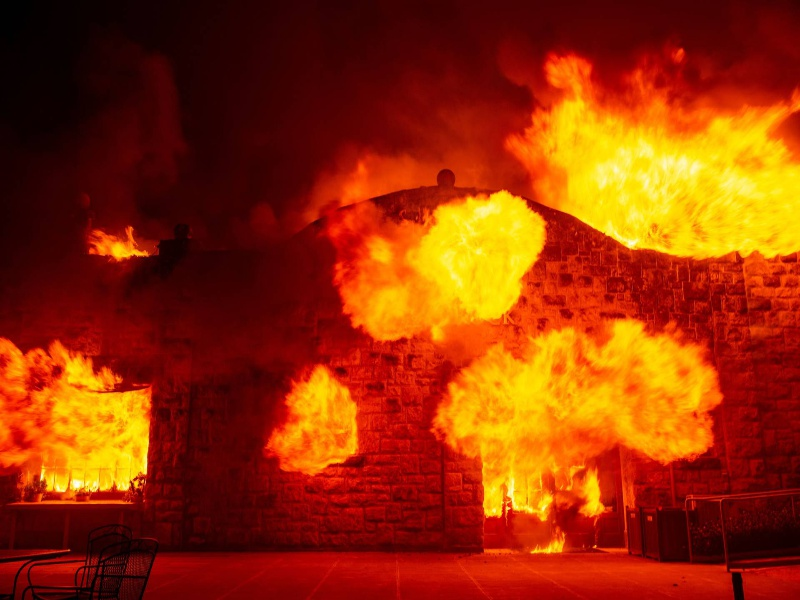fire: (442, 327, 721, 529), (558, 57, 800, 262), (7, 371, 158, 516), (401, 191, 542, 343), (265, 354, 365, 468), (76, 220, 149, 265), (520, 530, 573, 560)
